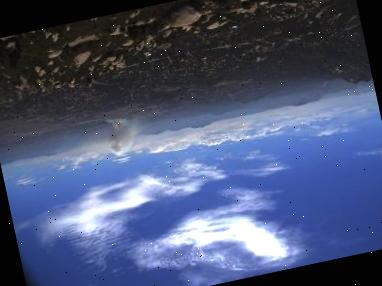smoke: (101, 110, 144, 158)
